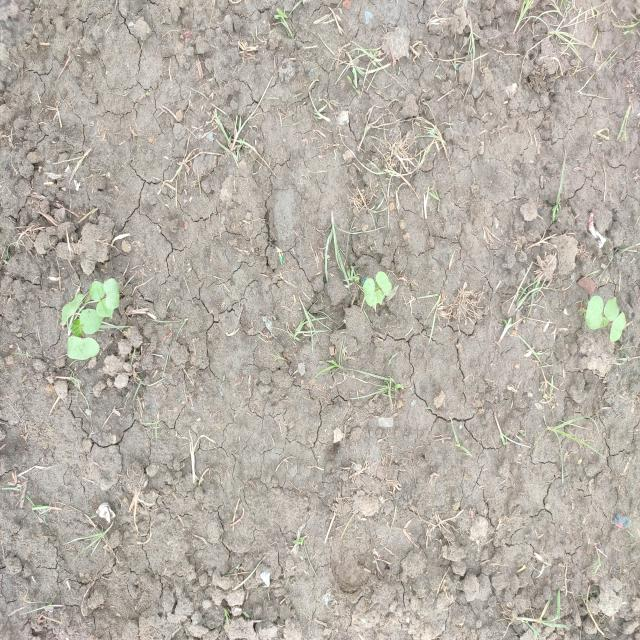seedling_s4: (67, 336, 100, 360), (62, 293, 84, 325), (586, 295, 604, 330), (80, 309, 104, 335), (103, 278, 120, 309), (610, 312, 626, 342), (375, 271, 392, 297), (363, 278, 377, 306), (96, 298, 114, 319), (604, 297, 619, 321), (89, 280, 105, 301), (71, 318, 82, 337), (375, 289, 384, 305), (598, 316, 609, 328)
